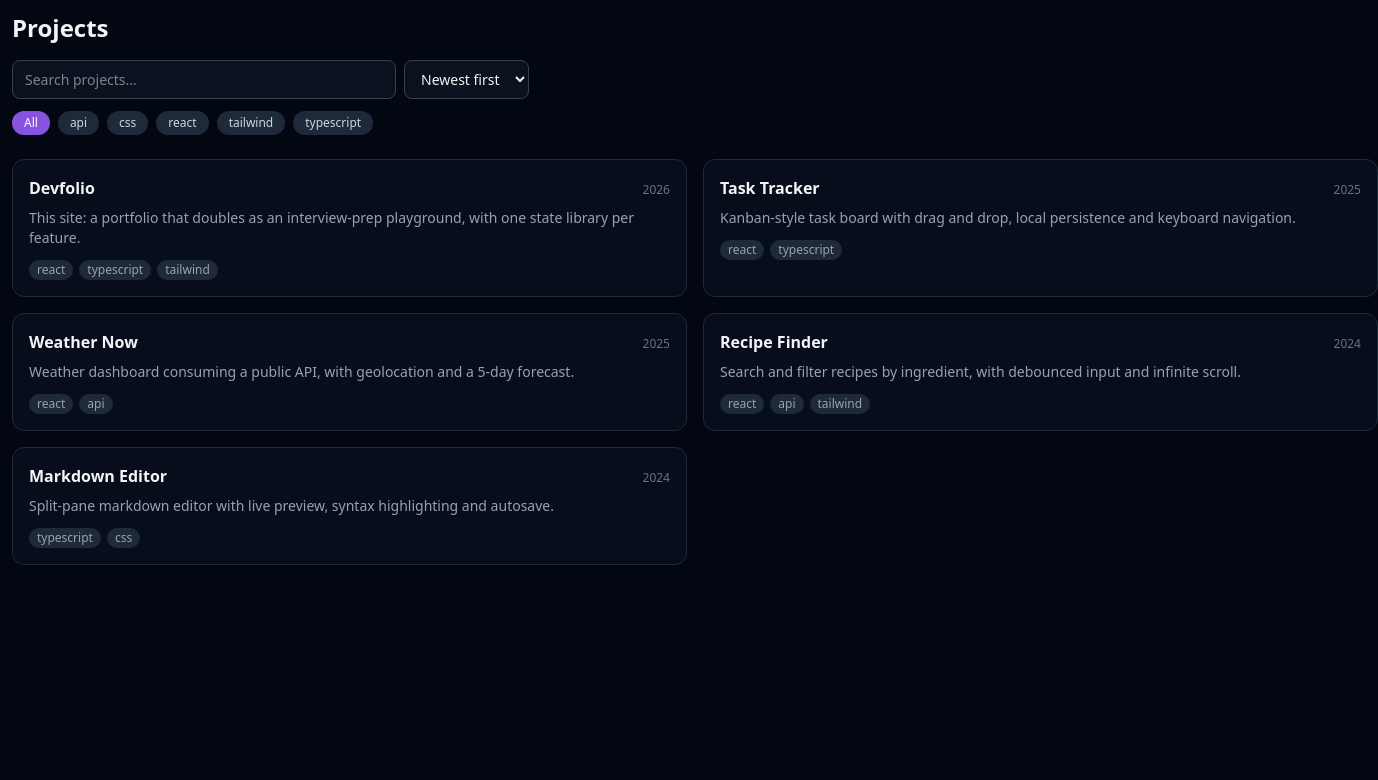
Scenario: <ProjectsPage /> › filters projects by search query
The width and height of the screenshot is (1378, 780).
Type "weather" into the search field.
click(204, 80); type("weather")  # box [12,60,396,99]
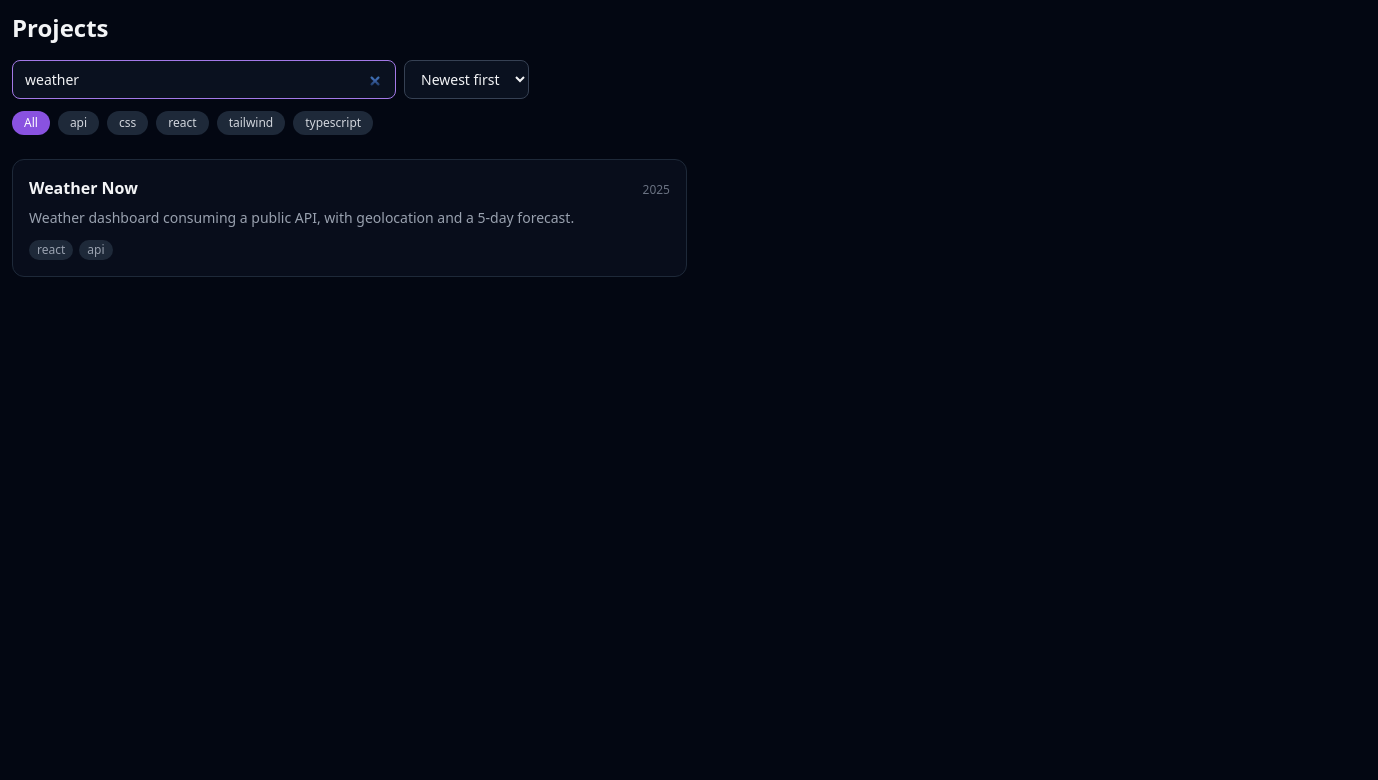
Expected: the link "Weather Now" is shown, [29,176,138,200]
Expected: the link "Markdown Editor" is gone
